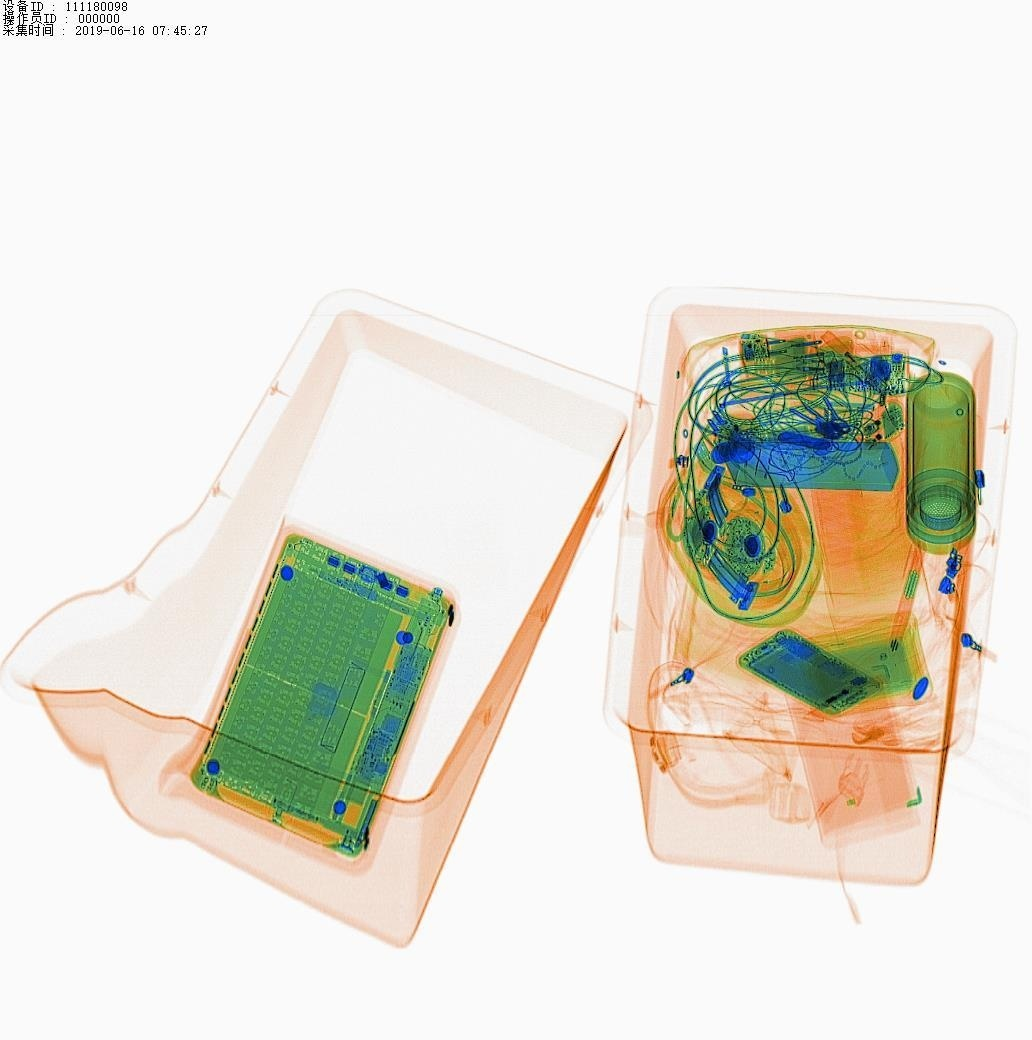NonmetallicFire: (820, 324, 903, 402)
